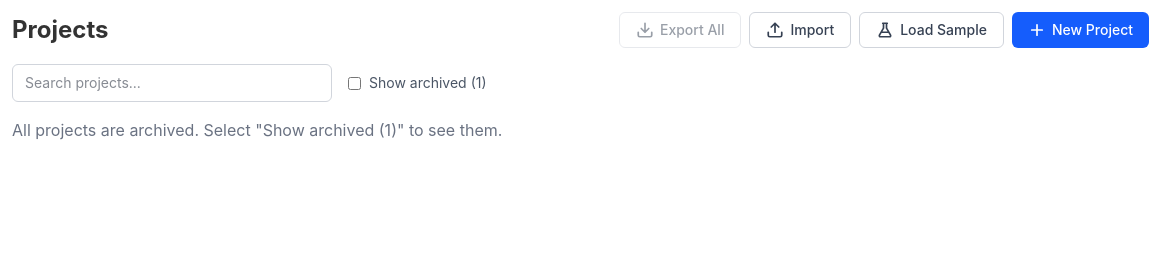
Test: every project archived, Show archived off › with Show archived on, the archived projects show and the line goes
This screenshot has width=1164, height=263.
Click the checkbox labelled "Show archived (1)" at {"x": 354, "y": 83}, box [348, 76, 361, 90]
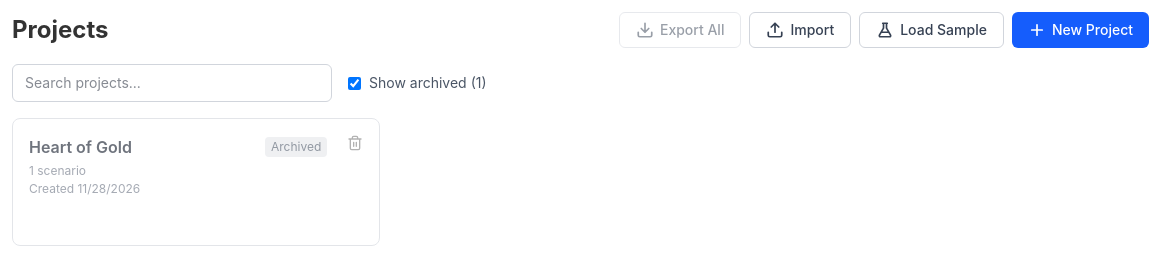
Result: the element showing "Heart of Gold Archived 1 scenario Created 11/28/2026" is shown at [12, 118, 380, 246]
